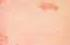plaque psoriasis: (40, 3, 58, 12), (0, 33, 8, 45)
